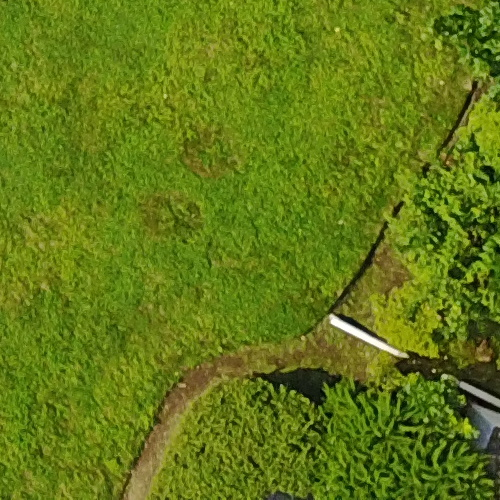gutter: (318, 301, 500, 412)
